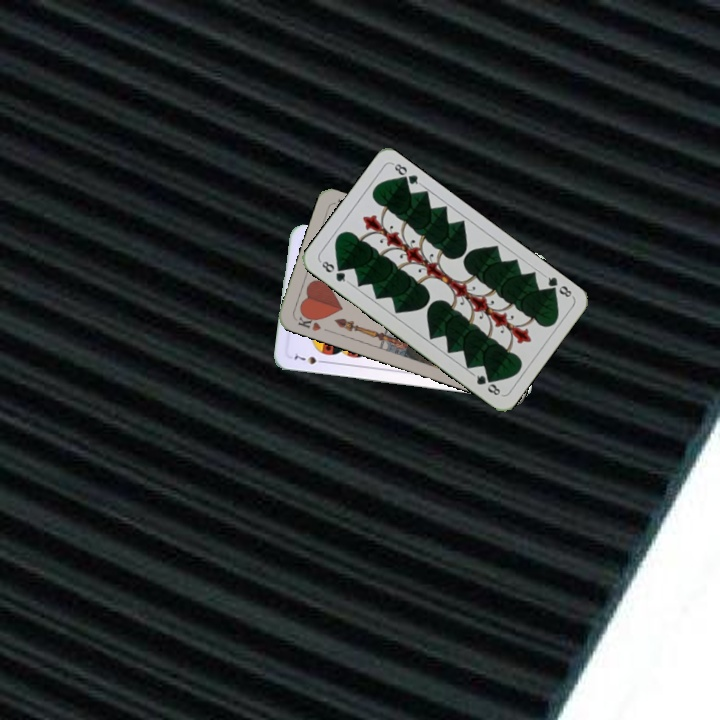G8: (540, 271, 574, 300), (316, 257, 351, 285)
HK: (292, 309, 324, 334)
S7: (289, 349, 328, 367)
